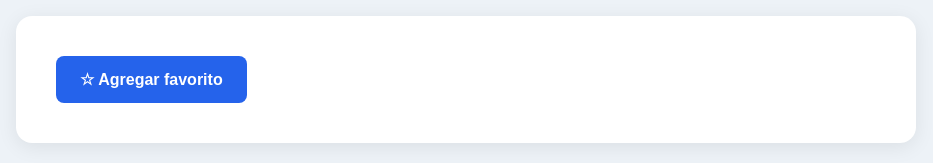
Favoritos de criptomonedas › permite agregar y quitar Bitcoin de favoritos
Click the button with aria-label "Agregar Bitcoin a favoritos": click(151, 80) x1=56 y1=56 x2=247 y2=103
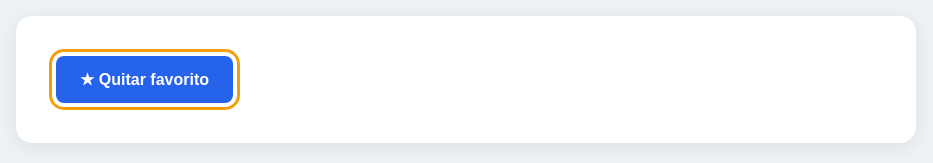
Now the button with aria-label "Quitar Bitcoin de favoritos" is pressed
Click the button with aria-label "Quitar Bitcoin de favoritos": click(144, 80) x1=56 y1=56 x2=233 y2=103
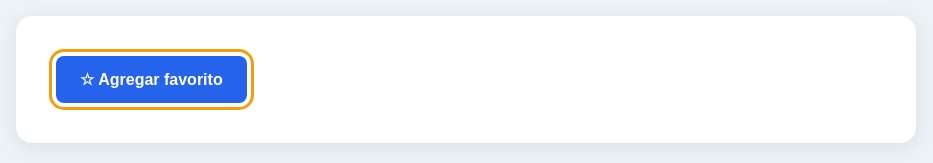
Now the button with aria-label "Agregar Bitcoin a favoritos" is not pressed, box x1=56 y1=56 x2=247 y2=103
